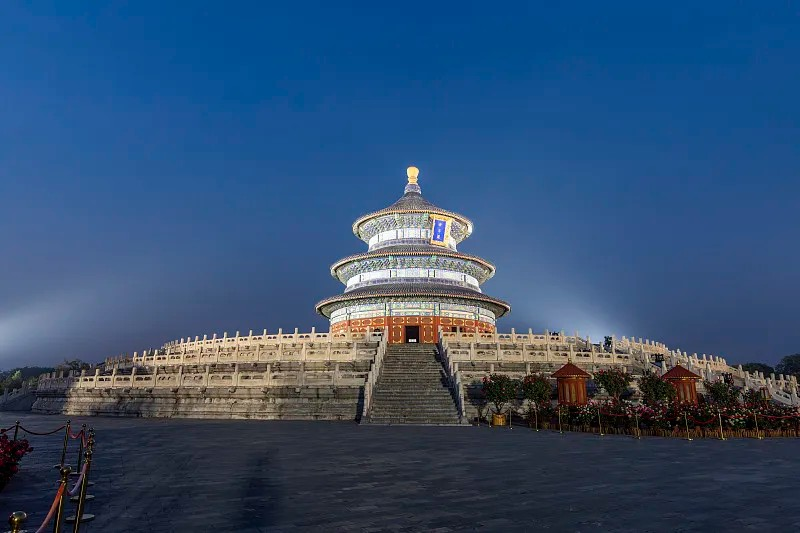Heaven: (314, 165, 512, 343)
